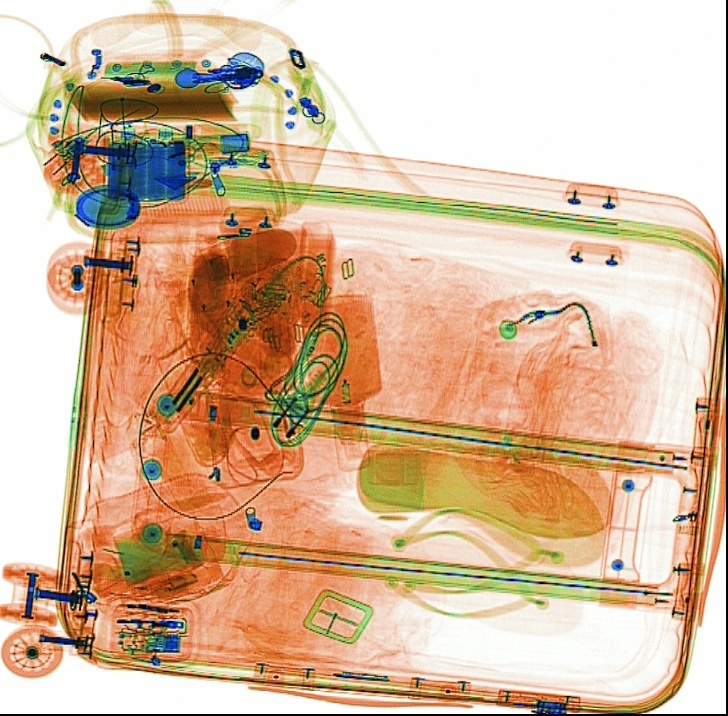powerbank: (102, 129, 195, 206)
